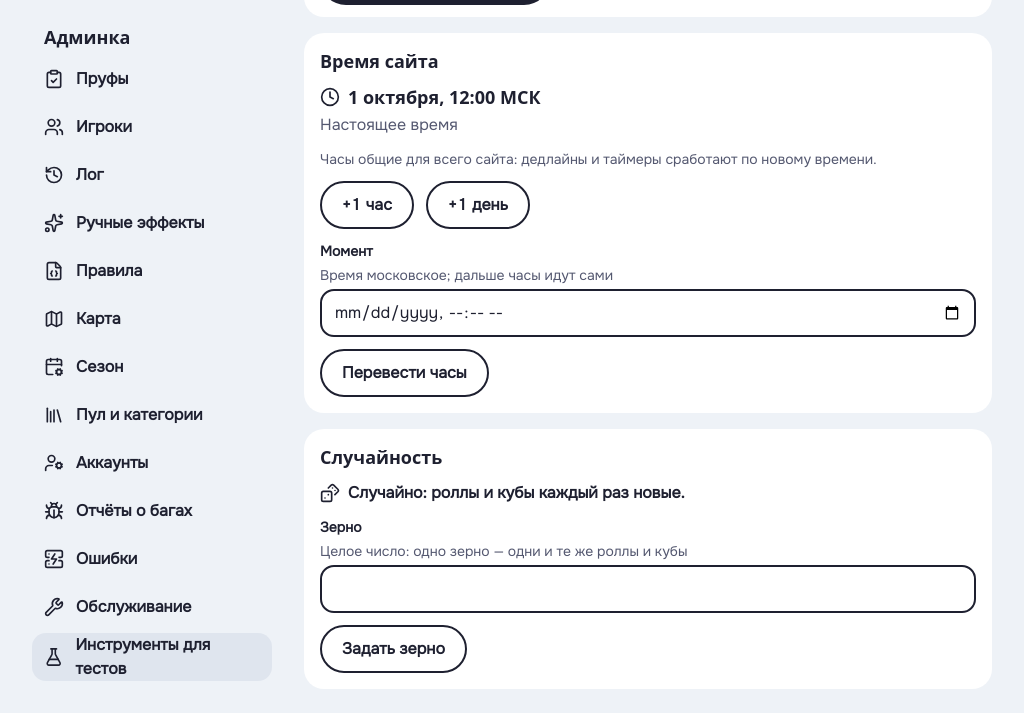
The test tools › seed the randomness with a whole number only, and make it random again
(page scrolled)
In the field with test id "random-seed": (648, 589) [320,565,976,613], type "4.2"
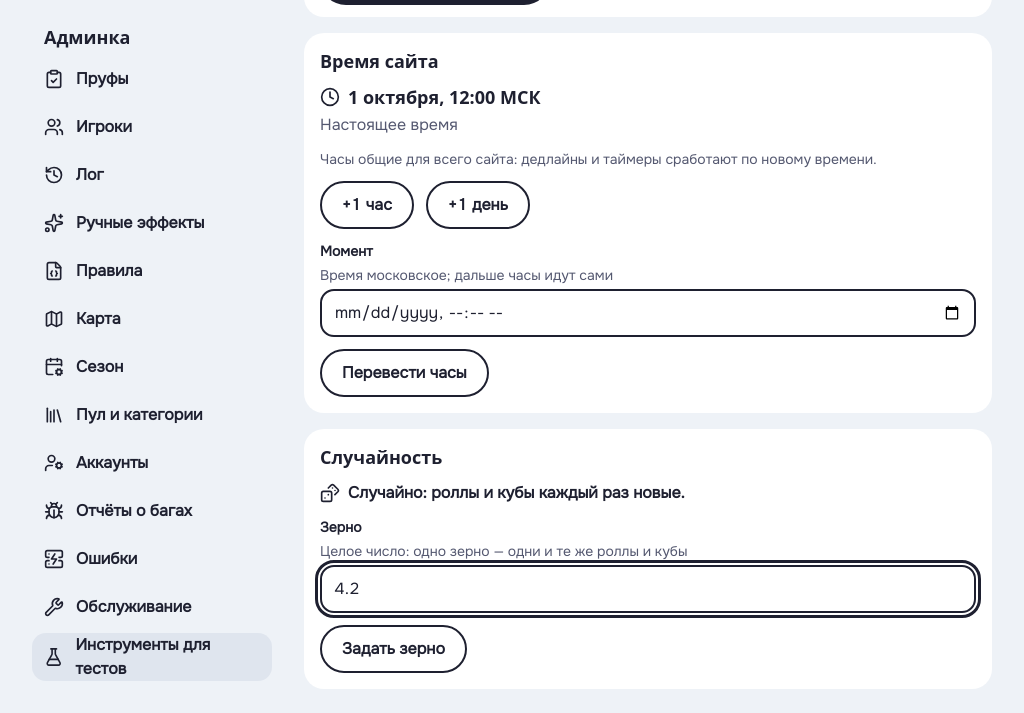
Click the button with test id "random-set": (393, 649) [320,625,467,673]
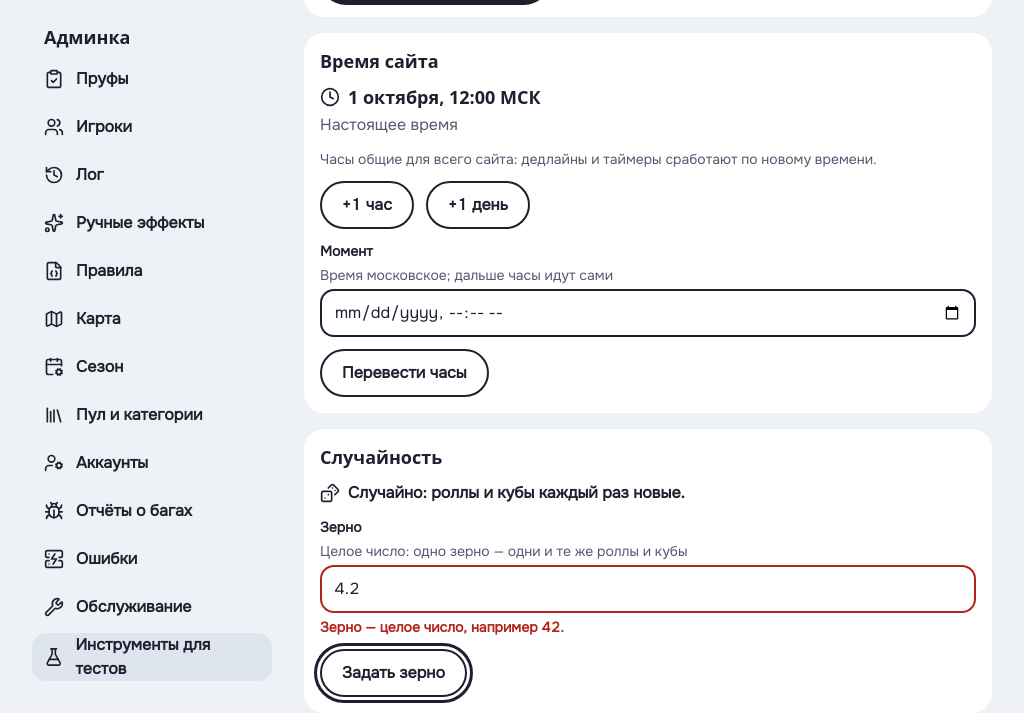
Now the text "Зерно — целое число, например 42." is shown, box [320,618,564,636]
Replace the text in the field with test id "random-seed" with "42": (648, 589) [320,565,976,613]
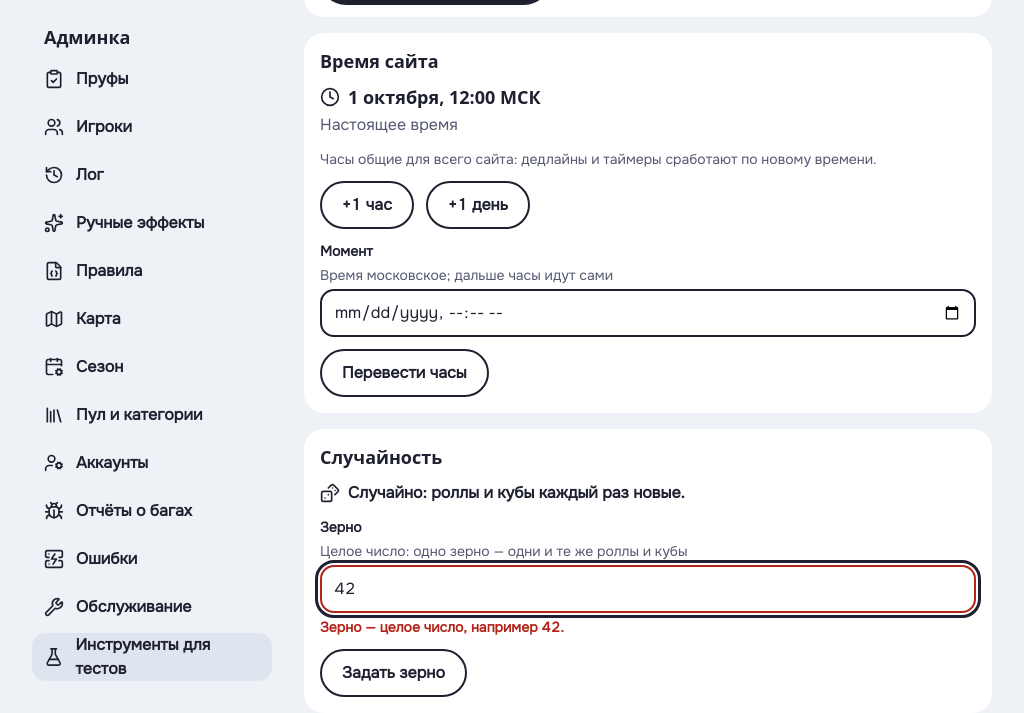
Click the button with test id "random-set": (393, 673) [320,649,467,697]
(page scrolled)
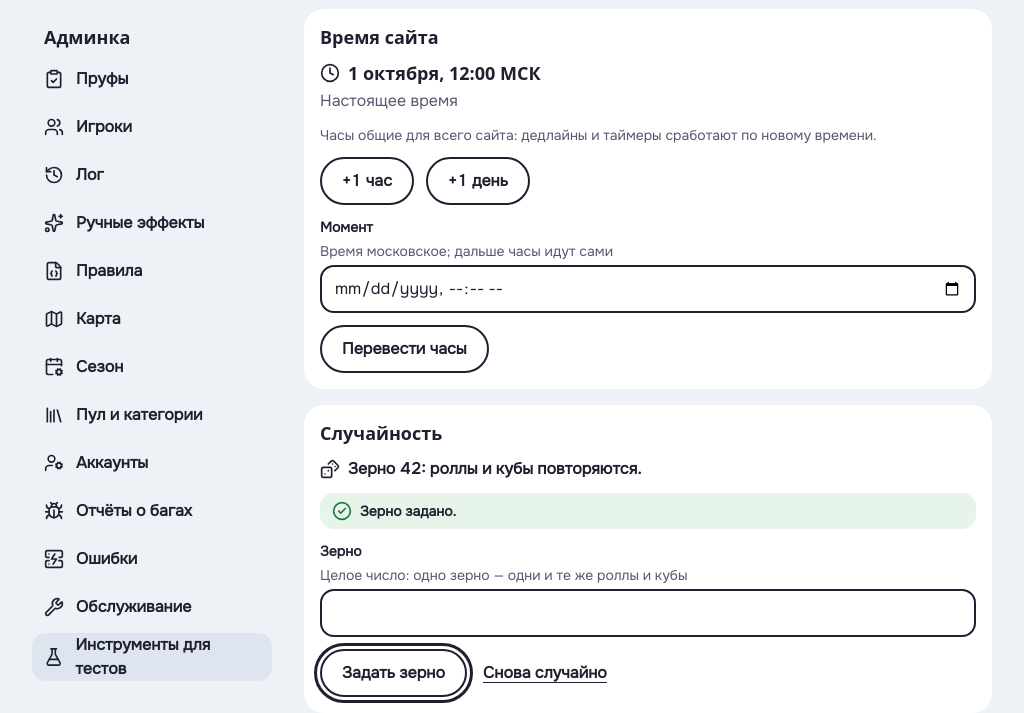
Click the button with test id "random-unseed": (545, 673) [479,651,611,695]
(page scrolled)
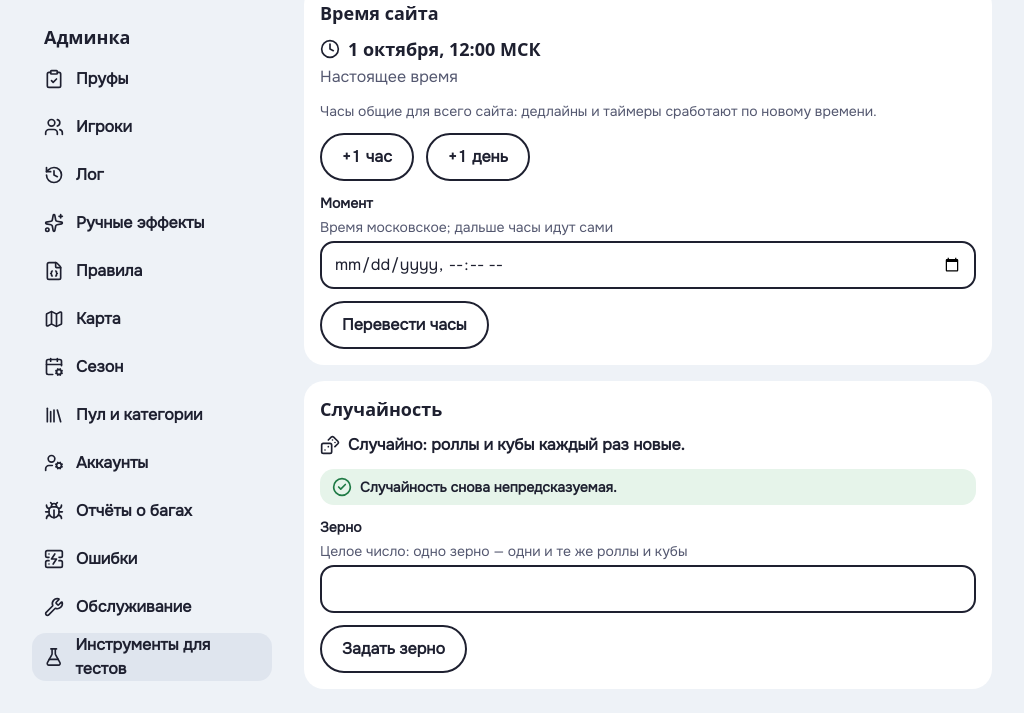
Now the text "Случайно: роллы и кубы каждый раз новые." is shown, box [320,434,685,455]
